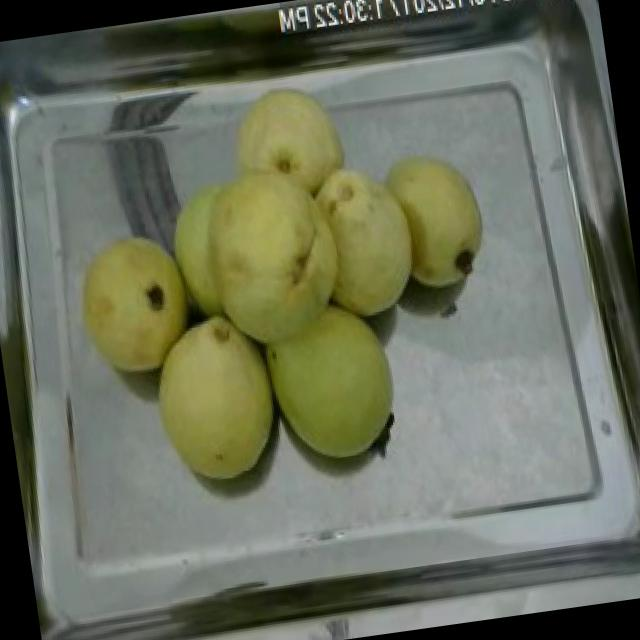Fruit: (160, 142, 436, 359), (138, 300, 296, 498), (252, 286, 412, 474), (49, 213, 212, 392), (376, 140, 496, 302)
